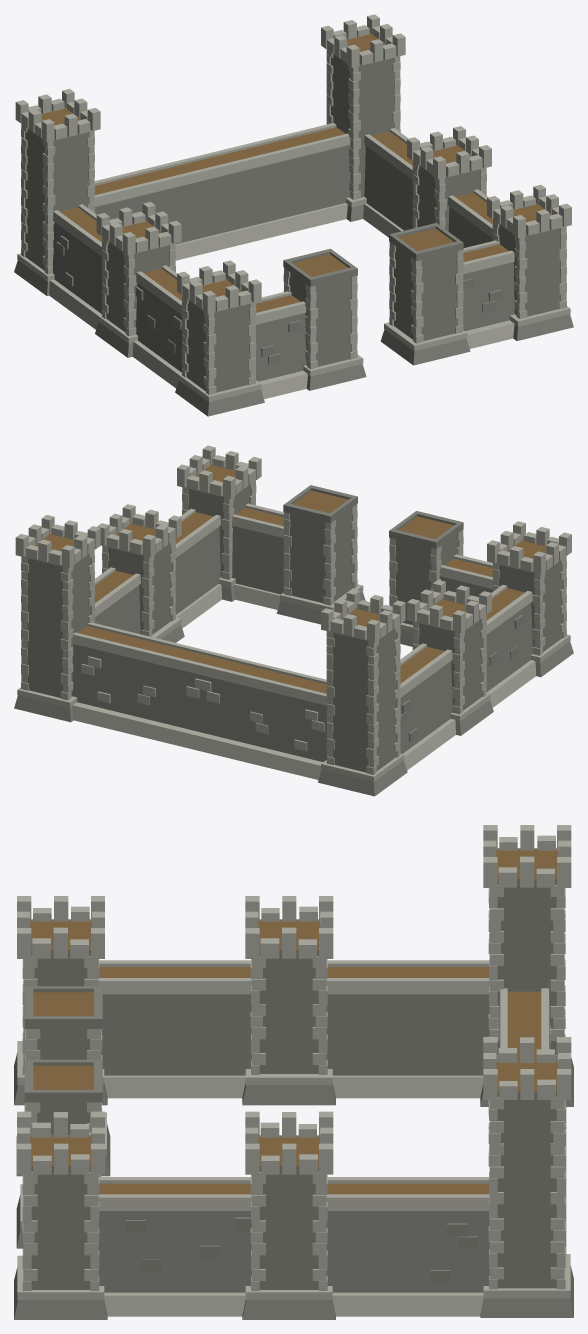
The model's file is WonderWalls_SecondAge.gltf.
3 renders of one model, top to bottom at view 1: azimuth 30°, elevation 25°; view 2: azimuth 150°, elevation 25°; view 3: azimuth 270°, elevation 25°, orthographic. The views are drawn at different scales.
Parts seen in each view (by area): view 1: WonderWalls_SecondAge; view 2: WonderWalls_SecondAge; view 3: WonderWalls_SecondAge.
Boxes of the visible parts, bbox=[...] form: WonderWalls_SecondAge: bbox=[14, 14, 573, 416]; WonderWalls_SecondAge: bbox=[14, 445, 573, 796]; WonderWalls_SecondAge: bbox=[14, 825, 573, 1319].
Size of the model in its own units: 2.1 by 0.9369 by 1.96.
